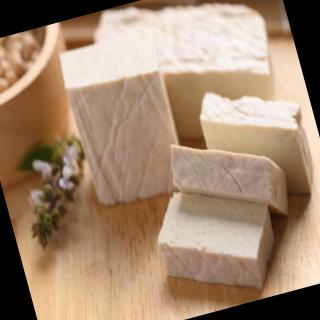Tahu: (119, 66, 320, 317), (89, 1, 301, 171), (50, 24, 201, 221)
